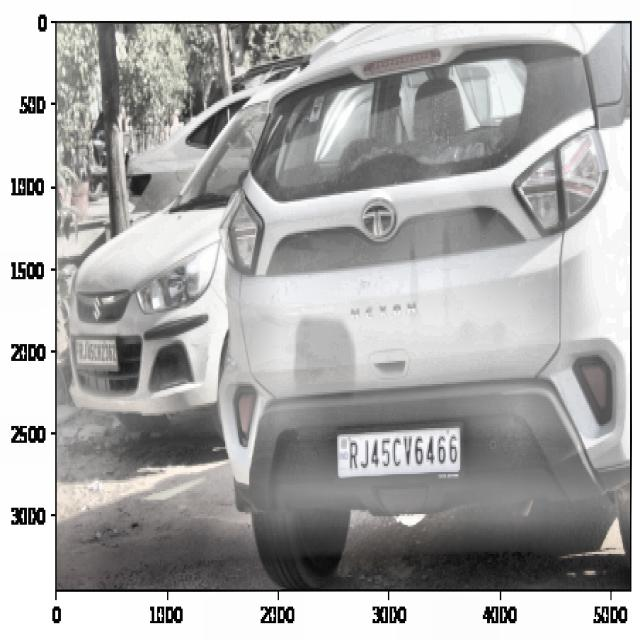license_plate: (341, 427, 462, 477), (74, 336, 117, 370)
